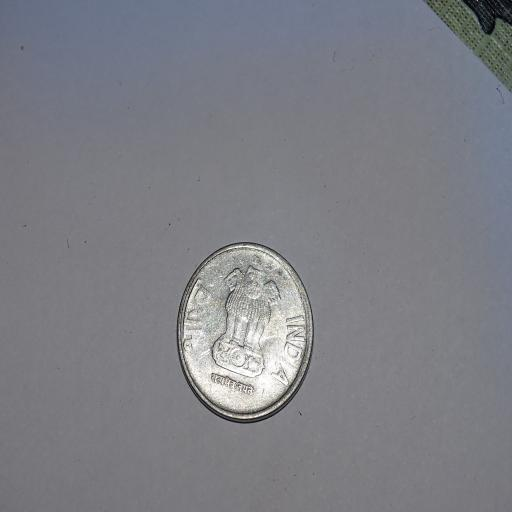rupee1: (176, 240, 315, 426)
